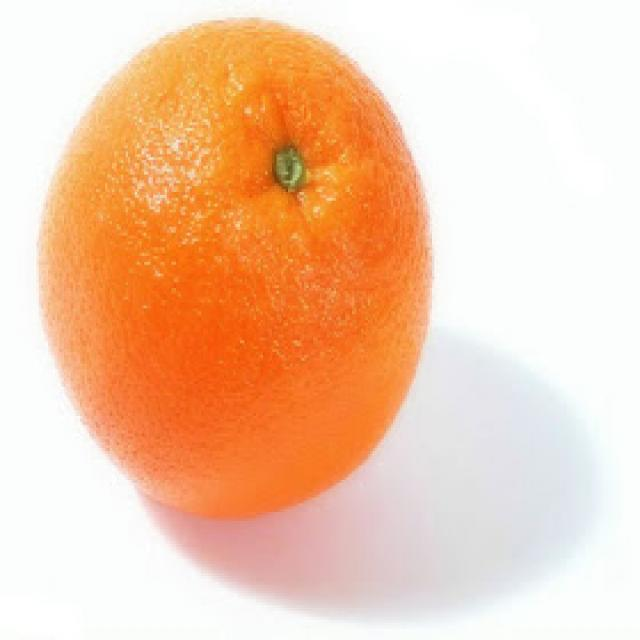Orange: (30, 17, 432, 528)
